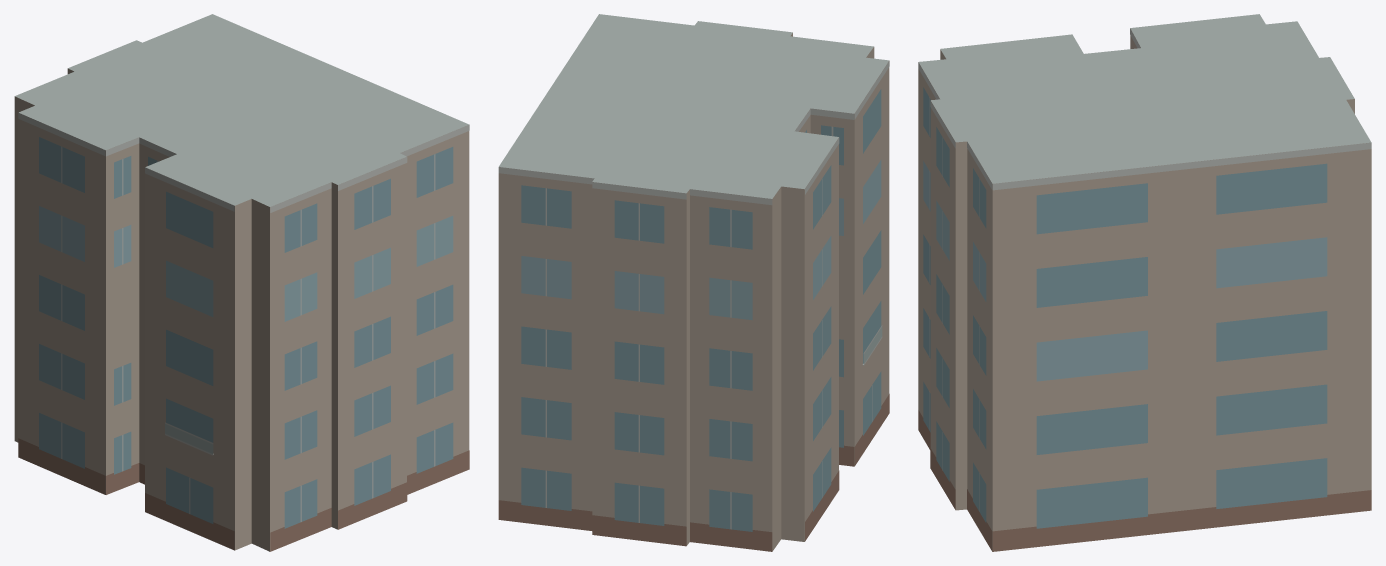
The model's file is survey-upis-32653464.glb.
3 renders of one model, left to right at view 1: azimuth 30°, elevation 25°; view 2: azimuth 150°, elevation 25°; view 3: azimuth 270°, elevation 25°, orthographic. The views are drawn at different scales.
Visible parts, largest first — view 1: survey-upis-32653464.tmp; view 2: survey-upis-32653464.tmp; view 3: survey-upis-32653464.tmp.
Boxes of the visible parts, <box> form: survey-upis-32653464.tmp: <box>14,14,469,551</box>; survey-upis-32653464.tmp: <box>498,14,889,551</box>; survey-upis-32653464.tmp: <box>918,14,1371,551</box>.
Bounding box in the file's own units: 13.57 × 13.7 × 15.3.
